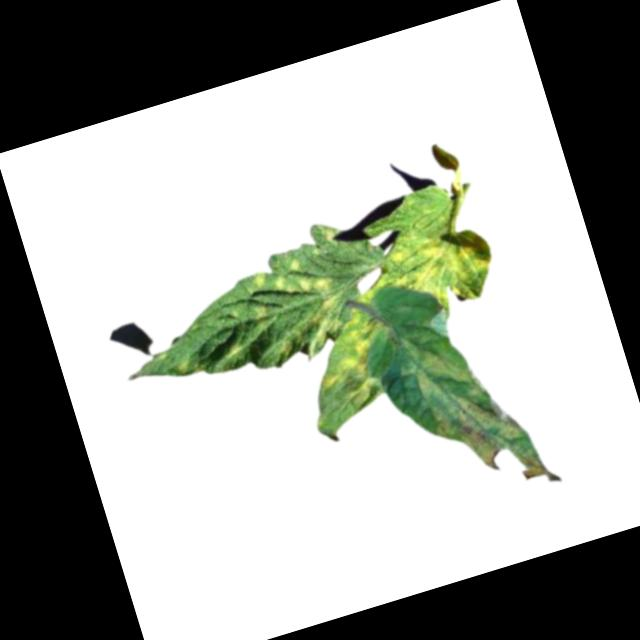Leaf_Mold: (390, 301, 555, 511), (241, 241, 356, 365), (375, 221, 501, 326), (301, 305, 401, 421)
